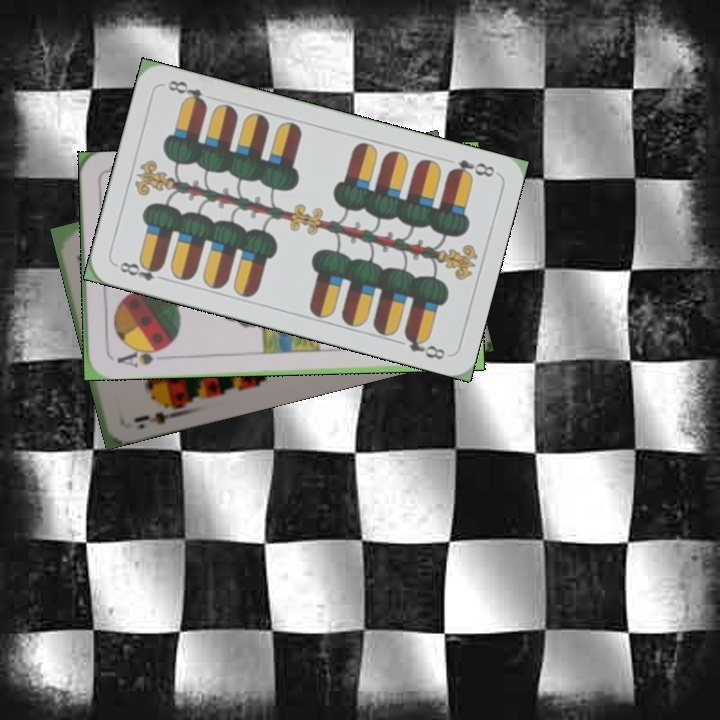E8: (115, 257, 170, 284), (445, 155, 498, 182)
S9: (129, 397, 184, 427)
SA: (113, 343, 167, 370)
